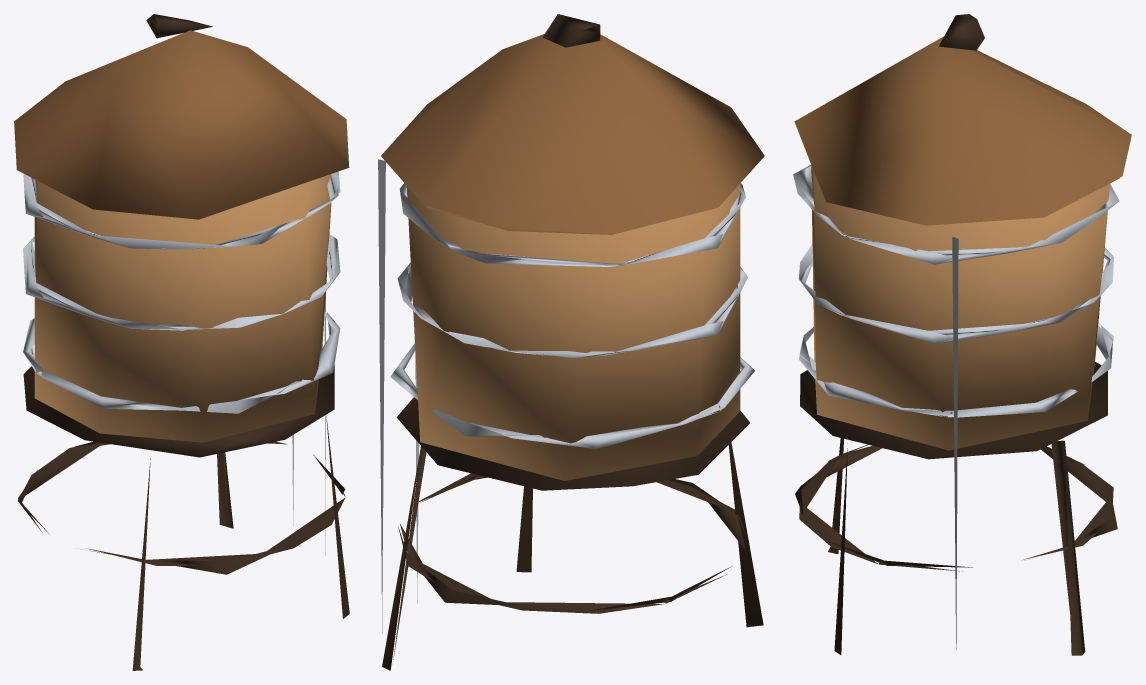
File: lod_rooftop_water_tank.glb
3 renders of one model, left to right at view 1: azimuth 30°, elevation 25°; view 2: azimuth 150°, elevation 25°; view 3: azimuth 270°, elevation 25°, orthographic. The views are drawn at different scales.
Visible parts, largest first — view 1: rooftop_water_tank; view 2: rooftop_water_tank; view 3: rooftop_water_tank.
Part boxes in pixels (x1=…): rooftop_water_tank: x1=14, y1=14, x2=349, y2=670; rooftop_water_tank: x1=378, y1=14, x2=764, y2=670; rooftop_water_tank: x1=793, y1=14, x2=1131, y2=655.
Size of the model in its own units: 2.14 by 3.98 by 2.12.
